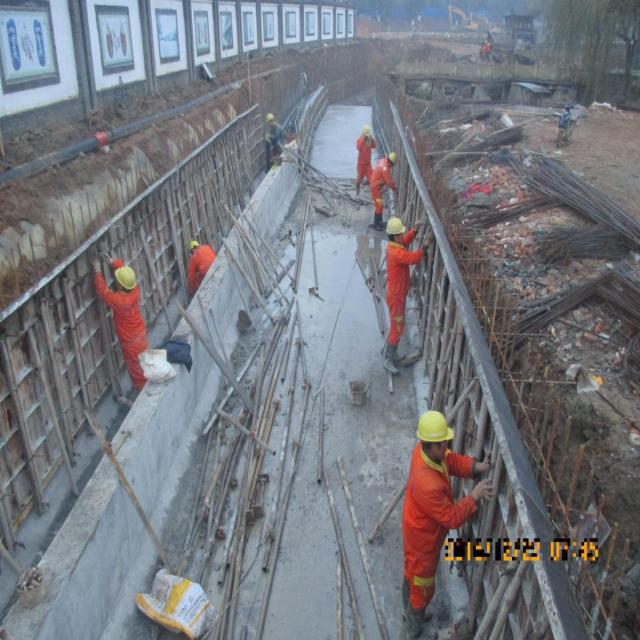excavator: (447, 5, 478, 32)
